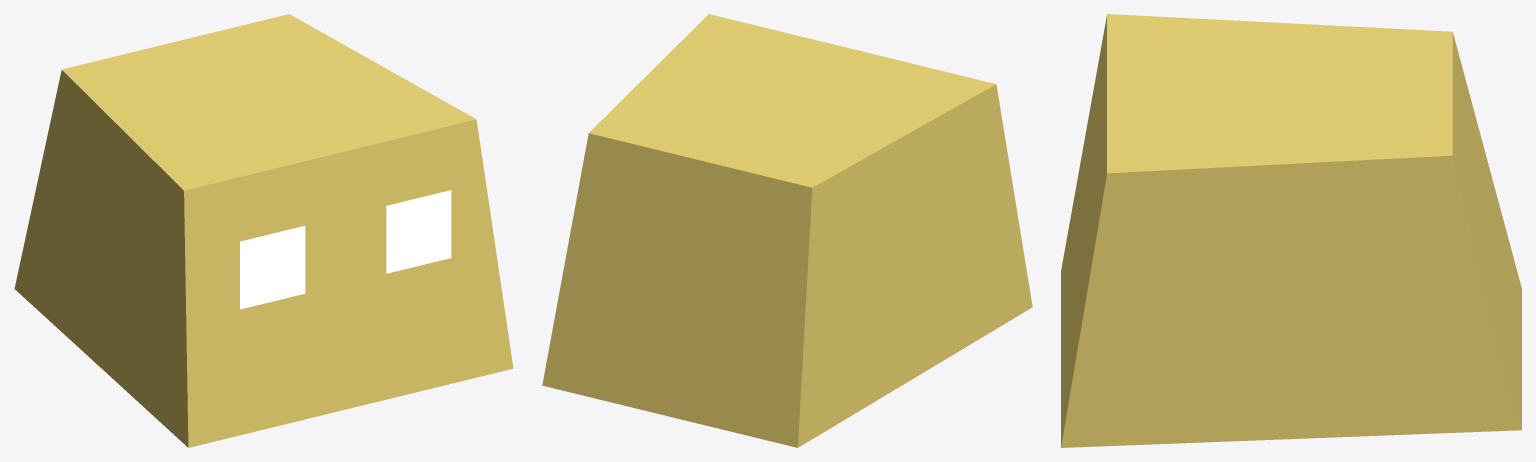
The model's file is c3po_head.glb.
The picture shows the model from 3 angles, left to right: view 1: azimuth 30°, elevation 25°; view 2: azimuth 150°, elevation 25°; view 3: azimuth 270°, elevation 25°; orthographic projection. The views are drawn at different scales.
Parts seen in each view (by area): view 1: c3po_head; view 2: c3po_head; view 3: c3po_head.
Part boxes in pixels (box(x1,y1,x2,y2)): c3po_head: box(14, 14, 513, 447); c3po_head: box(542, 14, 1032, 447); c3po_head: box(1061, 14, 1521, 447).
Bounding box in the file's own units: 0.2 × 0.14 × 0.22.
